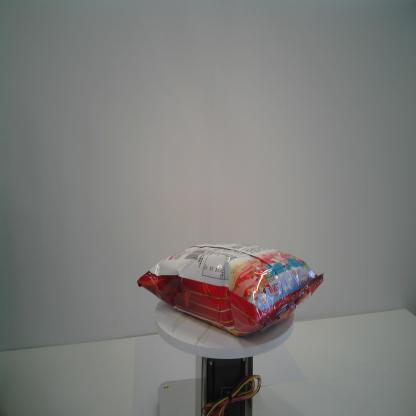Puffed Food: (137, 243, 325, 337)
